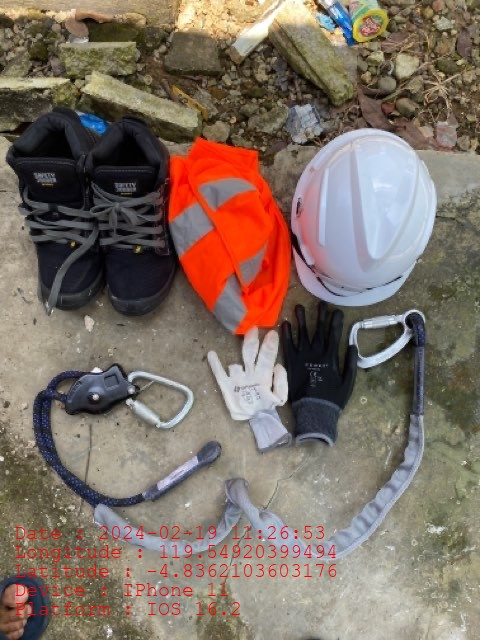HELM: (291, 129, 437, 305)
ROMPI: (169, 137, 289, 330)
SARUNG_TANGAN: (281, 303, 358, 450)
SEPATU: (6, 107, 170, 313)
